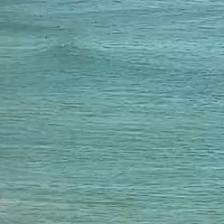surfer: (43, 35, 48, 40), (56, 24, 62, 28), (39, 15, 43, 18)
